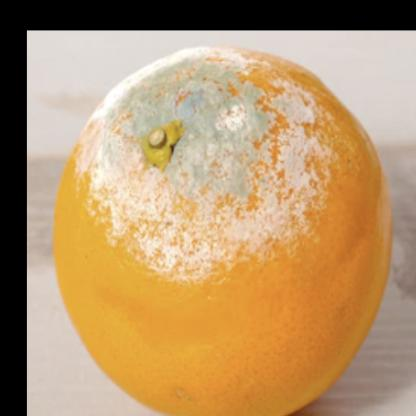rotten: (55, 47, 395, 416)
